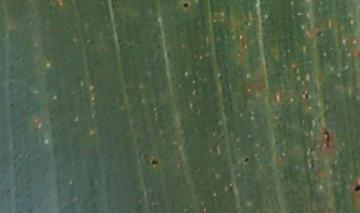tarspot: (150, 158, 159, 166), (181, 1, 189, 9), (353, 184, 360, 191), (243, 157, 251, 162), (9, 103, 14, 107)
